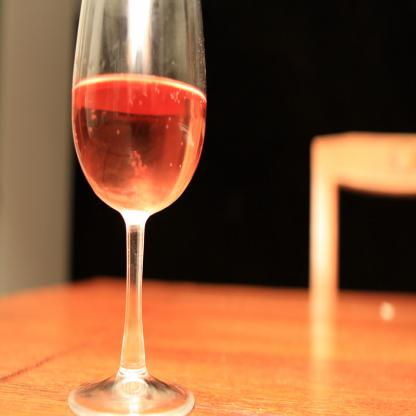drinking: (68, 0, 208, 415)
